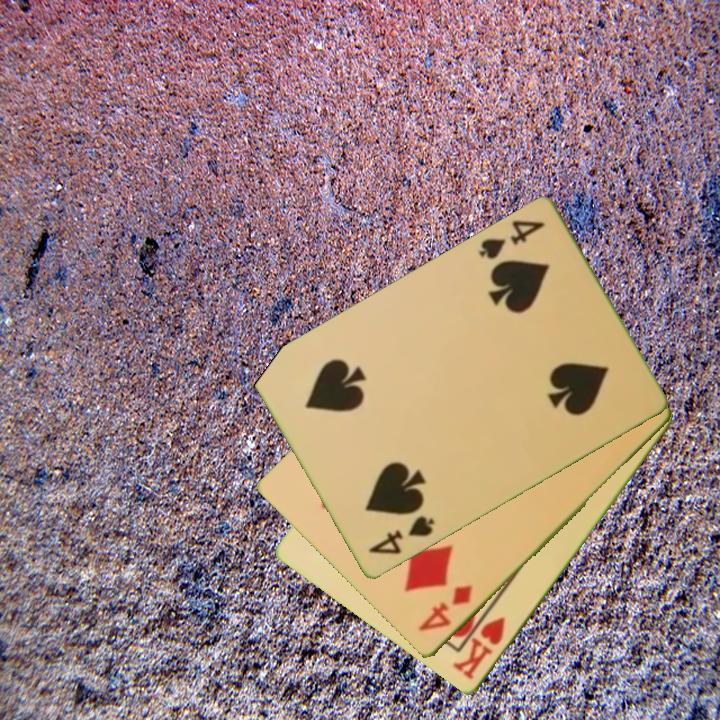4d: (415, 581, 477, 635)
4s: (475, 217, 548, 263), (364, 513, 438, 558)
Kh: (449, 613, 509, 684)
